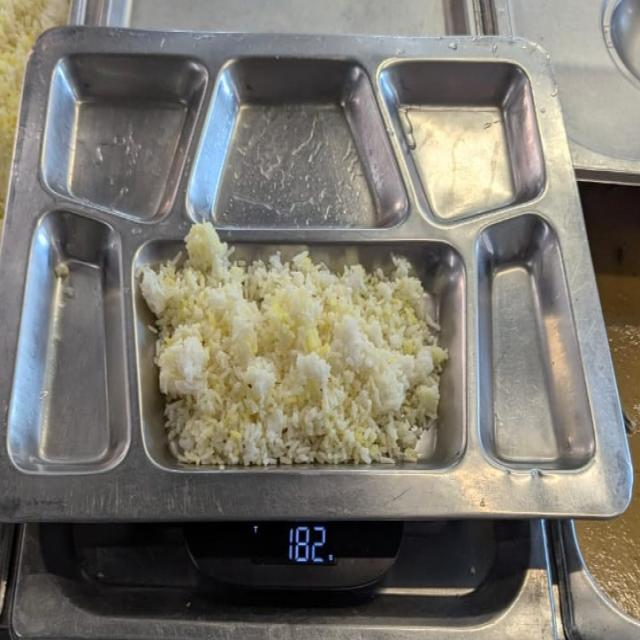Pulao: (162, 266, 443, 466)
